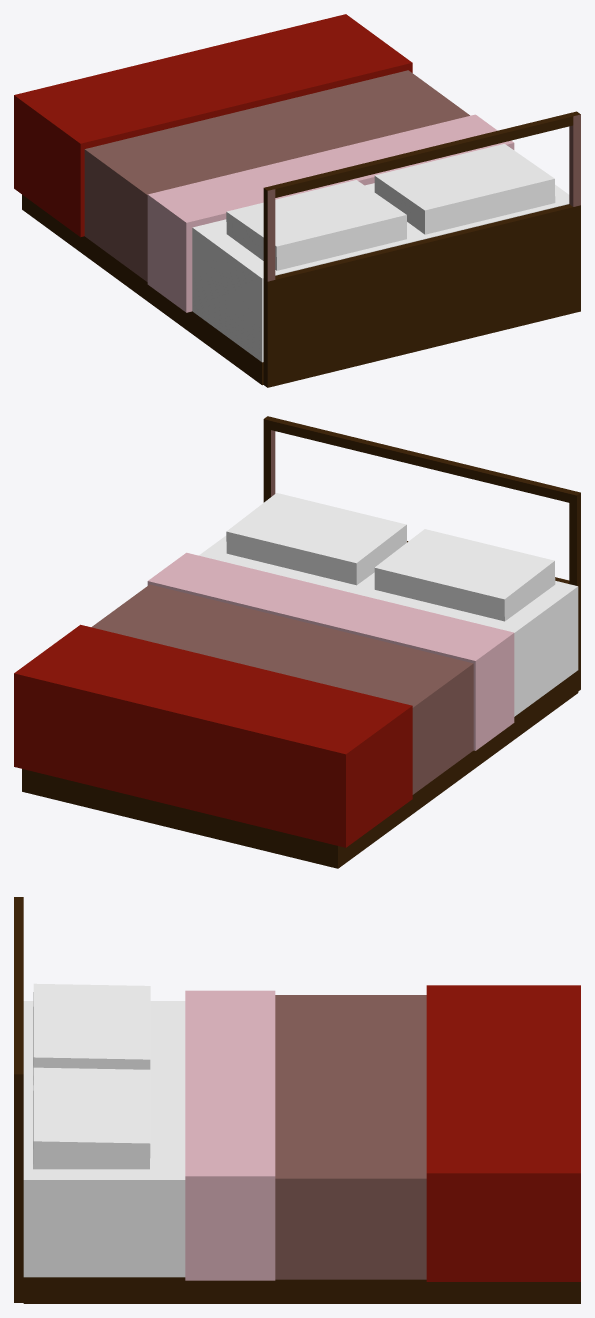
Rendered from camita.fbx.
3 renders of one model, top to bottom at view 1: azimuth 30°, elevation 25°; view 2: azimuth 150°, elevation 25°; view 3: azimuth 270°, elevation 25°, orthographic. The views are drawn at different scales.
Parts seen in each view (by area): view 1: Cube; view 2: Cube; view 3: Cube.
Part boxes in pixels (<box>): Cube: <box>14,14,580,387</box>; Cube: <box>14,416,580,868</box>; Cube: <box>14,897,580,1303</box>.
Size of the model in its own units: 273 by 155 by 347.
